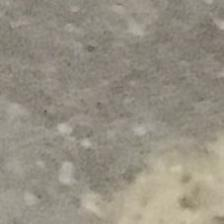Non_Crack: (40, 18, 203, 199)
